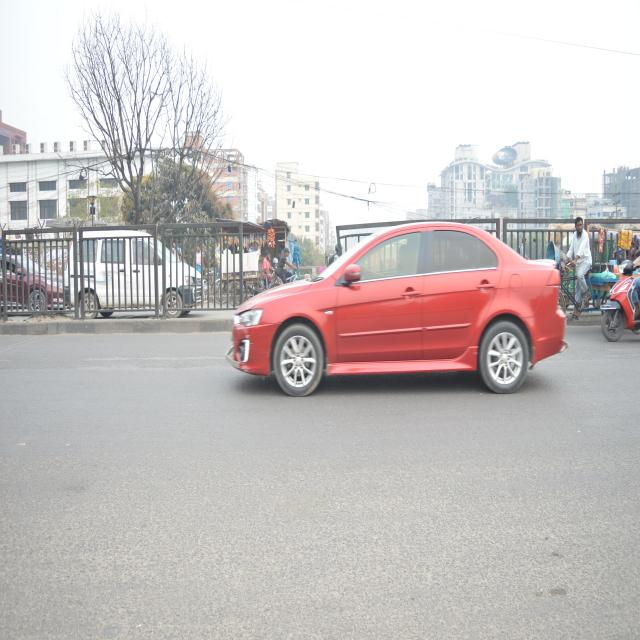car: (222, 226, 564, 399), (0, 247, 64, 318)
microbus: (66, 230, 202, 327)
motorbike: (586, 257, 640, 346)
